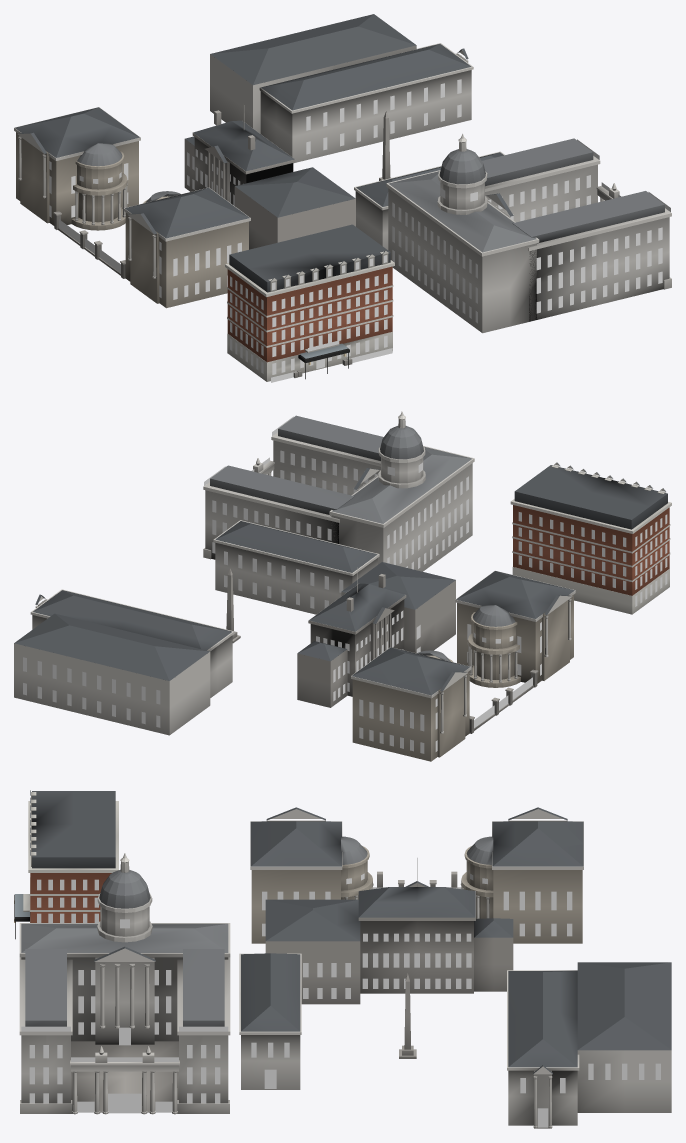
The model's file is kildare.glb.
3 renders of one model, top to bottom at view 1: azimuth 30°, elevation 25°; view 2: azimuth 150°, elevation 25°; view 3: azimuth 270°, elevation 25°, orthographic. The views are drawn at different scales.
Visible parts, largest first — view 1: kd_portland, kd_slate, kd_ashlar, kd_decal, kd_lead, kd_brick, kd_pgranite, kd_white, kd_cut_decal; view 2: kd_portland, kd_slate, kd_ashlar, kd_lead, kd_decal, kd_pgranite, kd_brick, kd_white, kd_cut_decal; view 3: kd_slate, kd_portland, kd_pgranite, kd_lead, kd_ashlar, kd_decal, kd_brick, kd_cut_decal, kd_white.
Boxes of the visible parts, box(x1,y1,x2,y2) form: kd_portland: box(14, 43, 671, 333); kd_slate: box(15, 14, 513, 292); kd_ashlar: box(16, 132, 248, 308); kd_decal: box(49, 79, 662, 374); kd_lead: box(77, 138, 664, 252); kd_brick: box(227, 266, 392, 362); kd_pgranite: box(53, 110, 390, 377); kd_white: box(225, 104, 394, 381); kd_cut_decal: box(59, 139, 670, 382); kd_portland: box(14, 411, 575, 735); kd_slate: box(14, 462, 667, 695); kd_ashlar: box(352, 594, 573, 761); kd_lead: box(210, 415, 515, 661); kd_decal: box(23, 450, 667, 753); kd_pgranite: box(226, 568, 538, 733); kd_brick: box(513, 505, 669, 595); kd_white: box(357, 462, 671, 614); kd_cut_decal: box(204, 416, 532, 728); kd_slate: box(30, 790, 671, 1073); kd_portland: box(19, 809, 671, 1128); kd_pgranite: box(71, 871, 513, 1112); kd_lead: box(21, 836, 493, 1026); kd_ashlar: box(251, 820, 582, 943); kd_decal: box(29, 873, 660, 1127); kd_brick: box(30, 873, 111, 922); kd_cut_decal: box(21, 887, 461, 1113); kd_white: box(23, 792, 417, 922).
Size of the model in its own units: 112 by 38.8 by 133.
